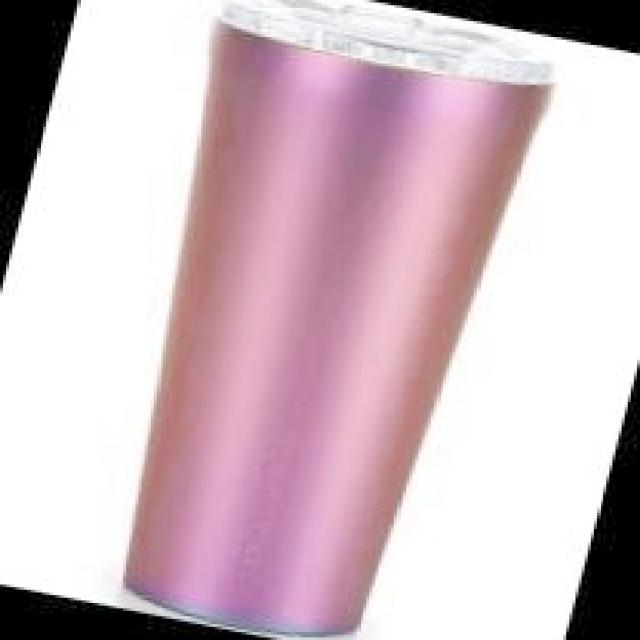bottle: (37, 0, 569, 640)
